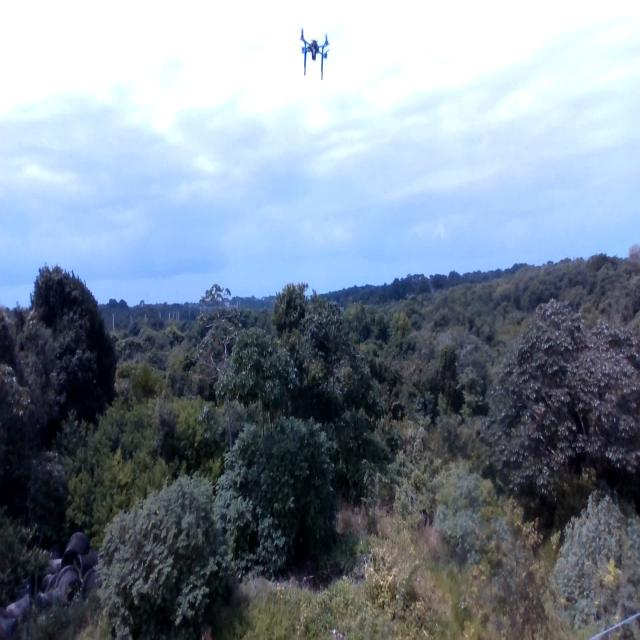-uav-: (298, 19, 334, 86)
